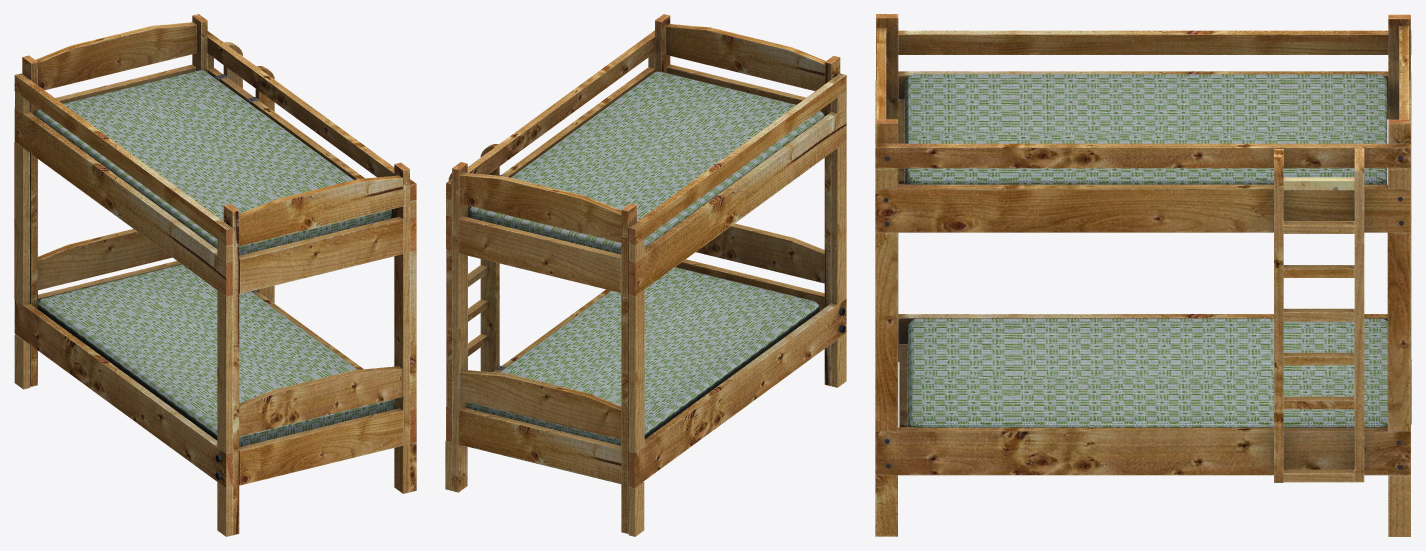
The picture shows the model from 3 angles, left to right: view 1: azimuth 30°, elevation 25°; view 2: azimuth 150°, elevation 25°; view 3: azimuth 270°, elevation 25°; orthographic projection. The views are drawn at different scales.
Parts seen in each view (by area): view 1: Object_2, Object_5; view 2: Object_2, Object_5; view 3: Object_2, Object_5.
Boxes of the visible parts, x1,y1,x2,y2 form: Object_2: (14, 14, 416, 536); Object_5: (35, 70, 394, 447); Object_2: (445, 14, 846, 536); Object_5: (466, 71, 824, 445); Object_2: (875, 14, 1411, 536); Object_5: (904, 74, 1387, 427).
Bounding box in the file's own units: 47.36 × 70.31 × 83.14.
Materials: 4 (4 with a texture image).
